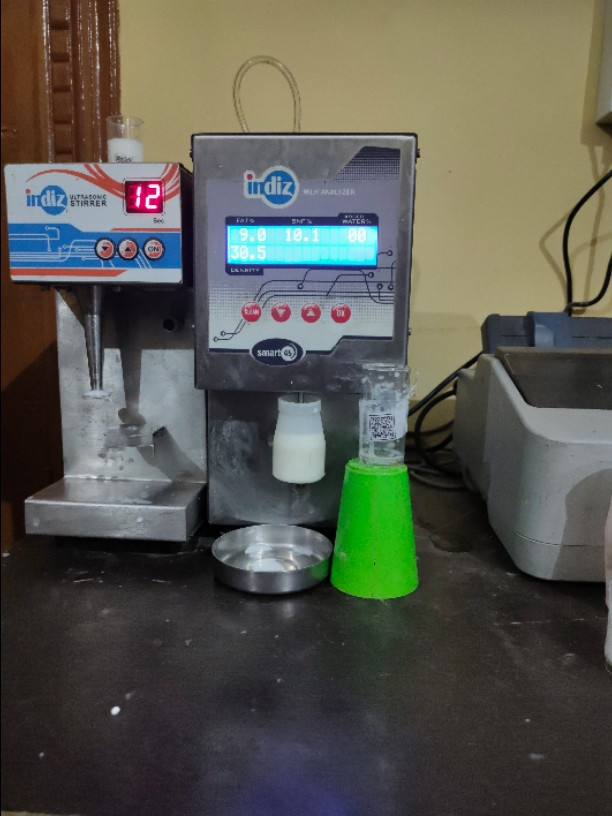lcd: (225, 221, 380, 269)
qr: (364, 415, 401, 443)
